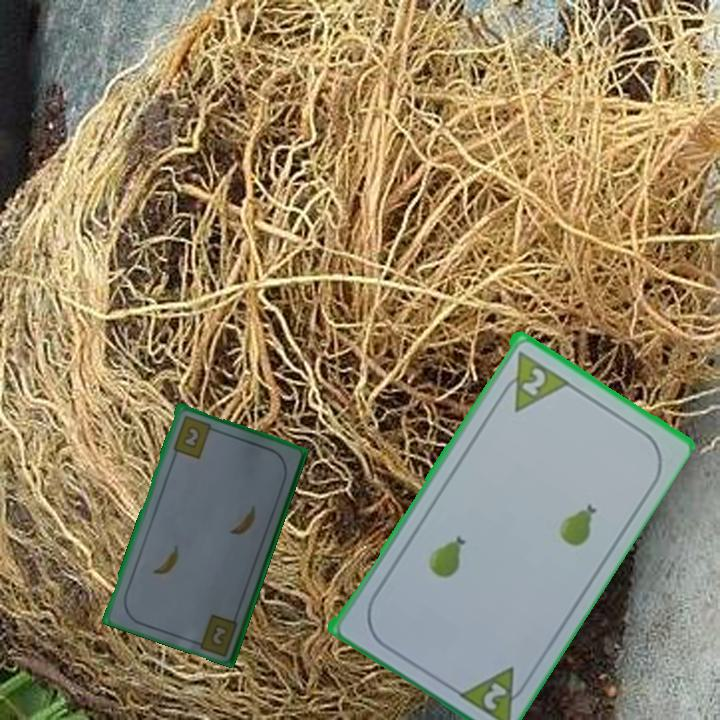2b: (169, 412, 219, 461), (209, 620, 231, 647)
2p: (493, 346, 570, 414), (479, 678, 510, 713)
